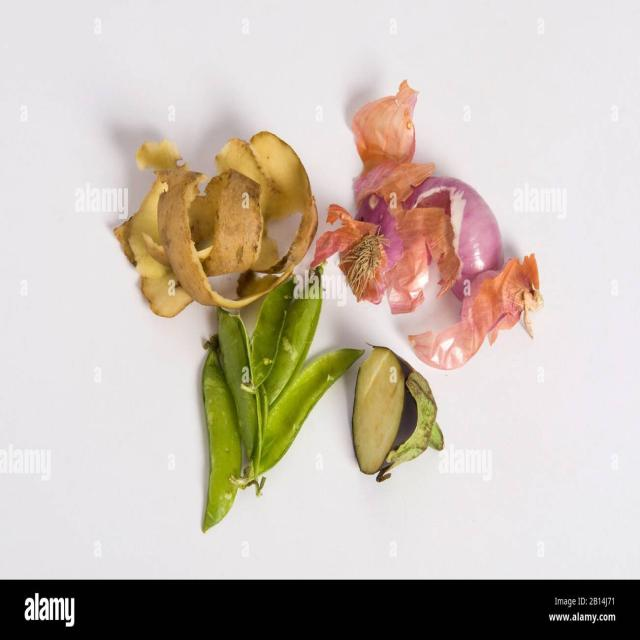Wet: (114, 133, 319, 317), (312, 175, 503, 314), (249, 346, 367, 489), (404, 255, 546, 370), (352, 346, 448, 483), (192, 336, 244, 538), (216, 306, 265, 501), (350, 79, 422, 165)
